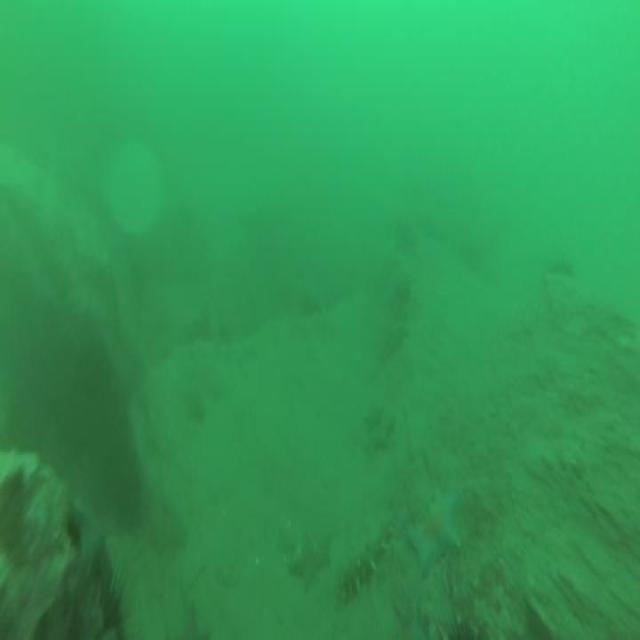holothurian: (341, 507, 391, 599)
starfish: (406, 488, 463, 576), (70, 493, 114, 586), (287, 526, 331, 590)
